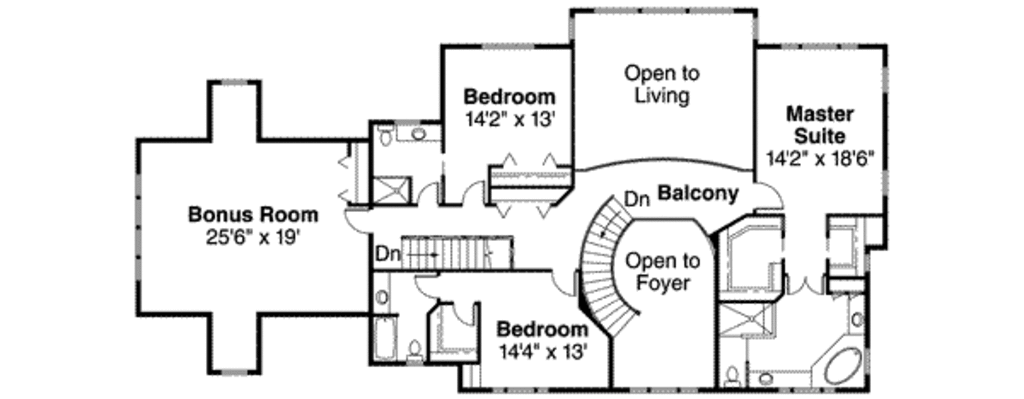door: (784, 270, 827, 298), (340, 205, 376, 237), (753, 179, 785, 214), (549, 265, 577, 300), (414, 178, 445, 208), (461, 179, 491, 206), (452, 299, 477, 330), (411, 272, 439, 299)
large_sink: (404, 335, 428, 368), (719, 363, 745, 392), (373, 121, 399, 149)
small_sink: (746, 368, 809, 388), (372, 268, 396, 315), (397, 121, 438, 146), (844, 290, 864, 335)
stairs: (581, 196, 637, 339), (400, 236, 514, 269)
tub: (809, 333, 868, 393), (371, 313, 400, 366)
window: (624, 383, 701, 396), (781, 43, 861, 52), (215, 74, 246, 89), (878, 64, 892, 95), (216, 365, 250, 377), (491, 386, 553, 392)
